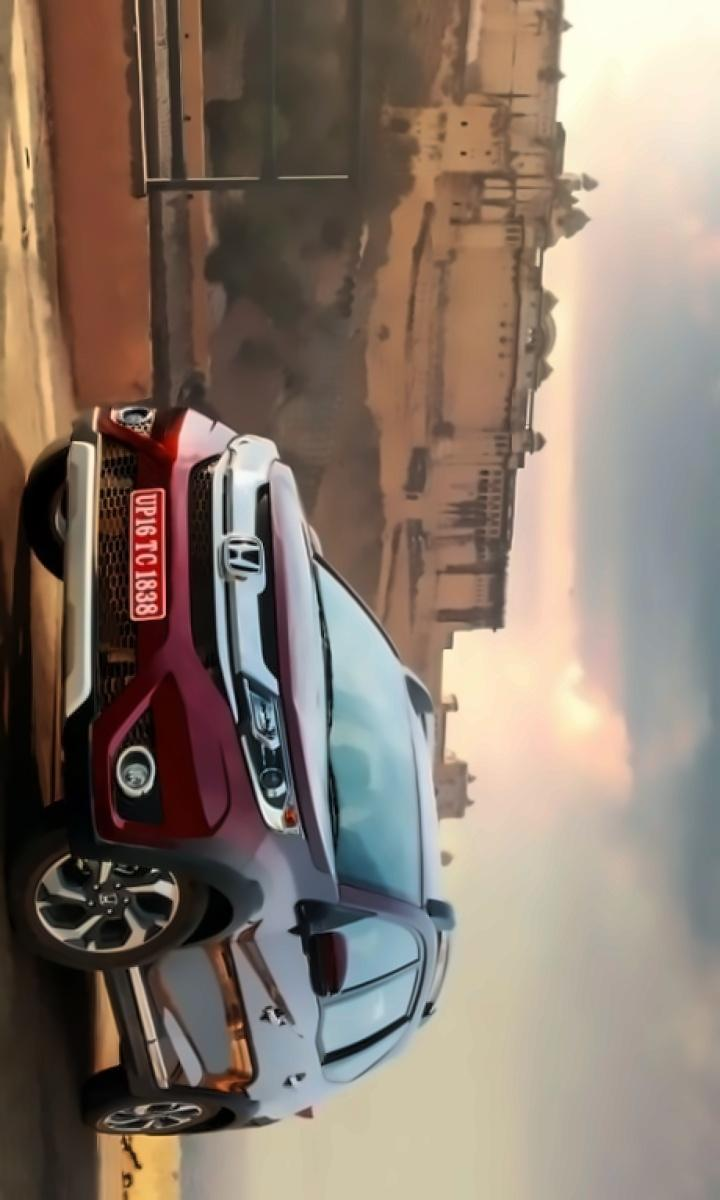Car hood: (269, 455, 333, 870)
Fender - -F-L-: (103, 831, 335, 960)
Front bumper: (60, 402, 267, 879)
Headlight - -L-: (235, 672, 308, 842)
Passenger-s door - -F-L-: (98, 883, 458, 1051)
Passenger-s door - -R-L-: (114, 978, 459, 1110)
Side bumper - -L-: (87, 947, 182, 1107)
Side mirror - -L-: (294, 917, 346, 1005)
